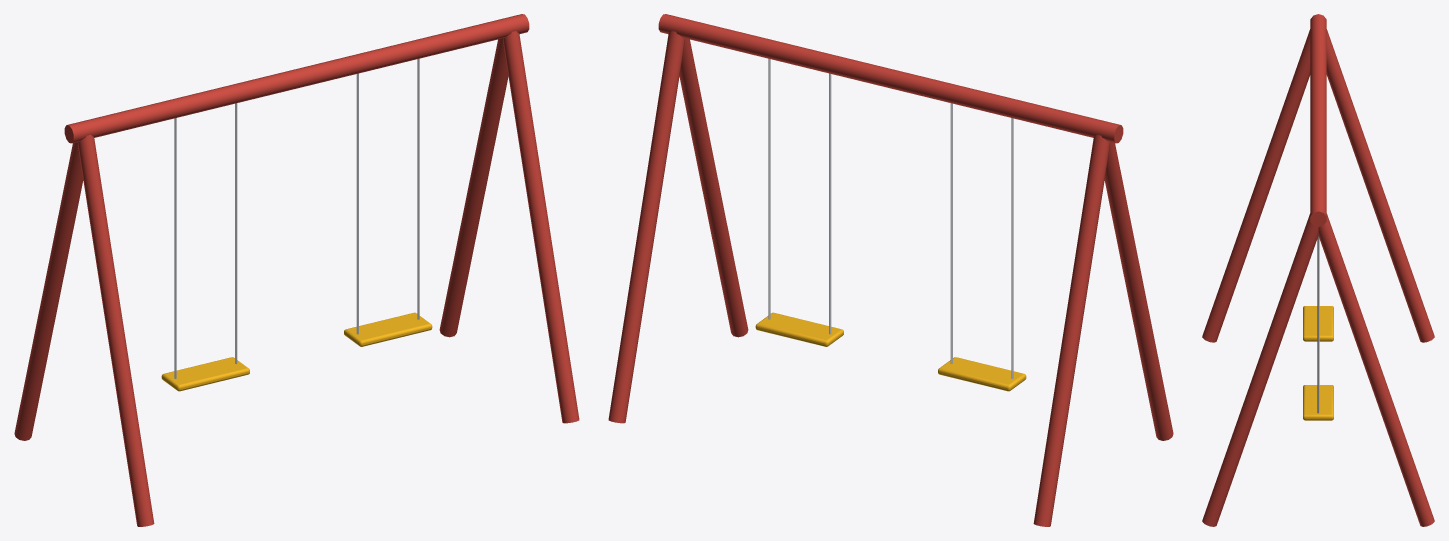
The model's file is swing_set.fbx.
The picture shows the model from 3 angles, left to right: view 1: azimuth 30°, elevation 25°; view 2: azimuth 150°, elevation 25°; view 3: azimuth 270°, elevation 25°; orthographic projection. The views are drawn at different scales.
Parts seen in each view (by area): view 1: swing_set; view 2: swing_set; view 3: swing_set.
Part boxes in pixels (x1,y1,x2,y2): swing_set: (14,14,579,526); swing_set: (608,14,1173,526); swing_set: (1202,14,1434,526).
Bounding box in the file's own units: 3 × 2.27 × 1.49.
